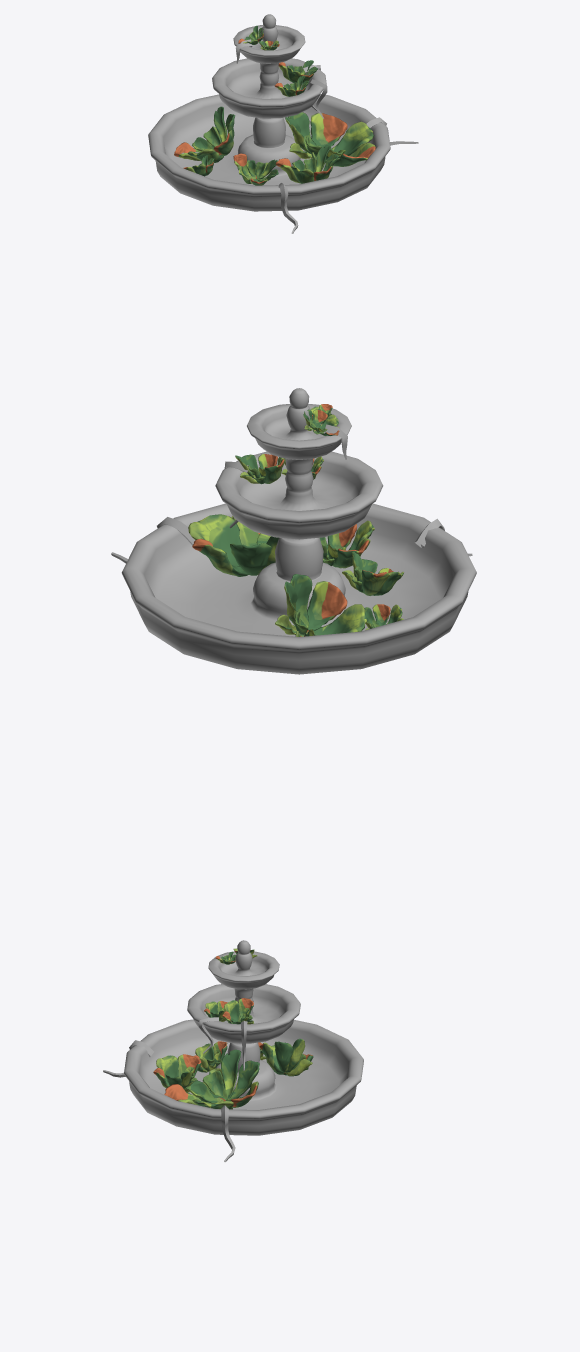
File: MS_Fountain.fbx
3 views of the same model, one above another, from view 1: azimuth 30°, elevation 25°; view 2: azimuth 150°, elevation 25°; view 3: azimuth 270°, elevation 25° (orthographic). The views are drawn at different scales.
Visible parts, largest first — view 1: MS_Fountain_Base, Leaf5_group1_lowpoly, Leaf6_group1_lowpoly, Leaf7_group1_lowpoly1; view 2: MS_Fountain_Base, Leaf6_group1_lowpoly (×2), Leaf5_group1_lowpoly (×2), Leaf3_group1_lowpoly (×2); view 3: MS_Fountain_Base, Leaf2_group1_lowpoly, Leaf3_group1_lowpoly.
Part boxes in pixels (left/top/right/bottom): MS_Fountain_Base: left=148, top=14, right=390, bottom=211; Leaf5_group1_lowpoly: left=310, top=113, right=347, bottom=147; Leaf6_group1_lowpoly: left=331, top=121, right=374, bottom=157; Leaf7_group1_lowpoly1: left=333, top=143, right=375, bottom=166; MS_Fountain_Base: left=121, top=388, right=476, bottom=674; Leaf6_group1_lowpoly (×2): left=188, top=514, right=366, bottom=635; Leaf5_group1_lowpoly (×2): left=192, top=538, right=347, bottom=630; Leaf3_group1_lowpoly (×2): left=230, top=543, right=312, bottom=628; MS_Fountain_Base: left=124, top=940, right=363, bottom=1135; Leaf2_group1_lowpoly: left=221, top=1049, right=241, bottom=1099; Leaf3_group1_lowpoly: left=227, top=1060, right=259, bottom=1100.
Size of the model in its own units: 230 by 170 by 287.
